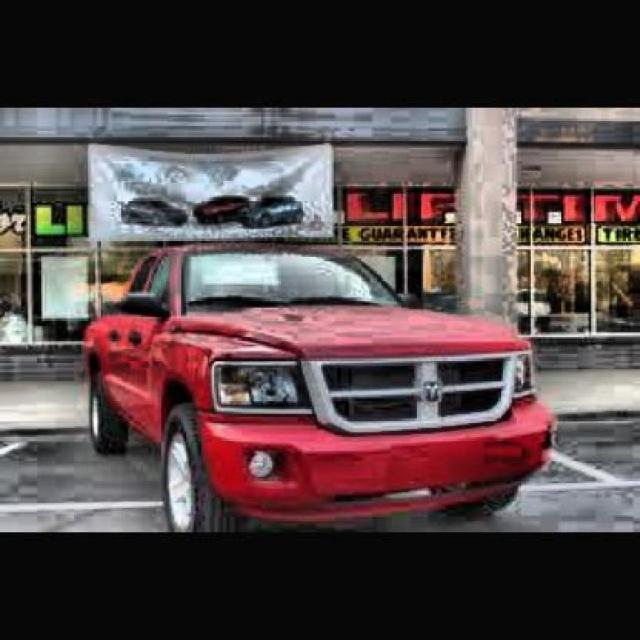maroon: (84, 240, 555, 519)
